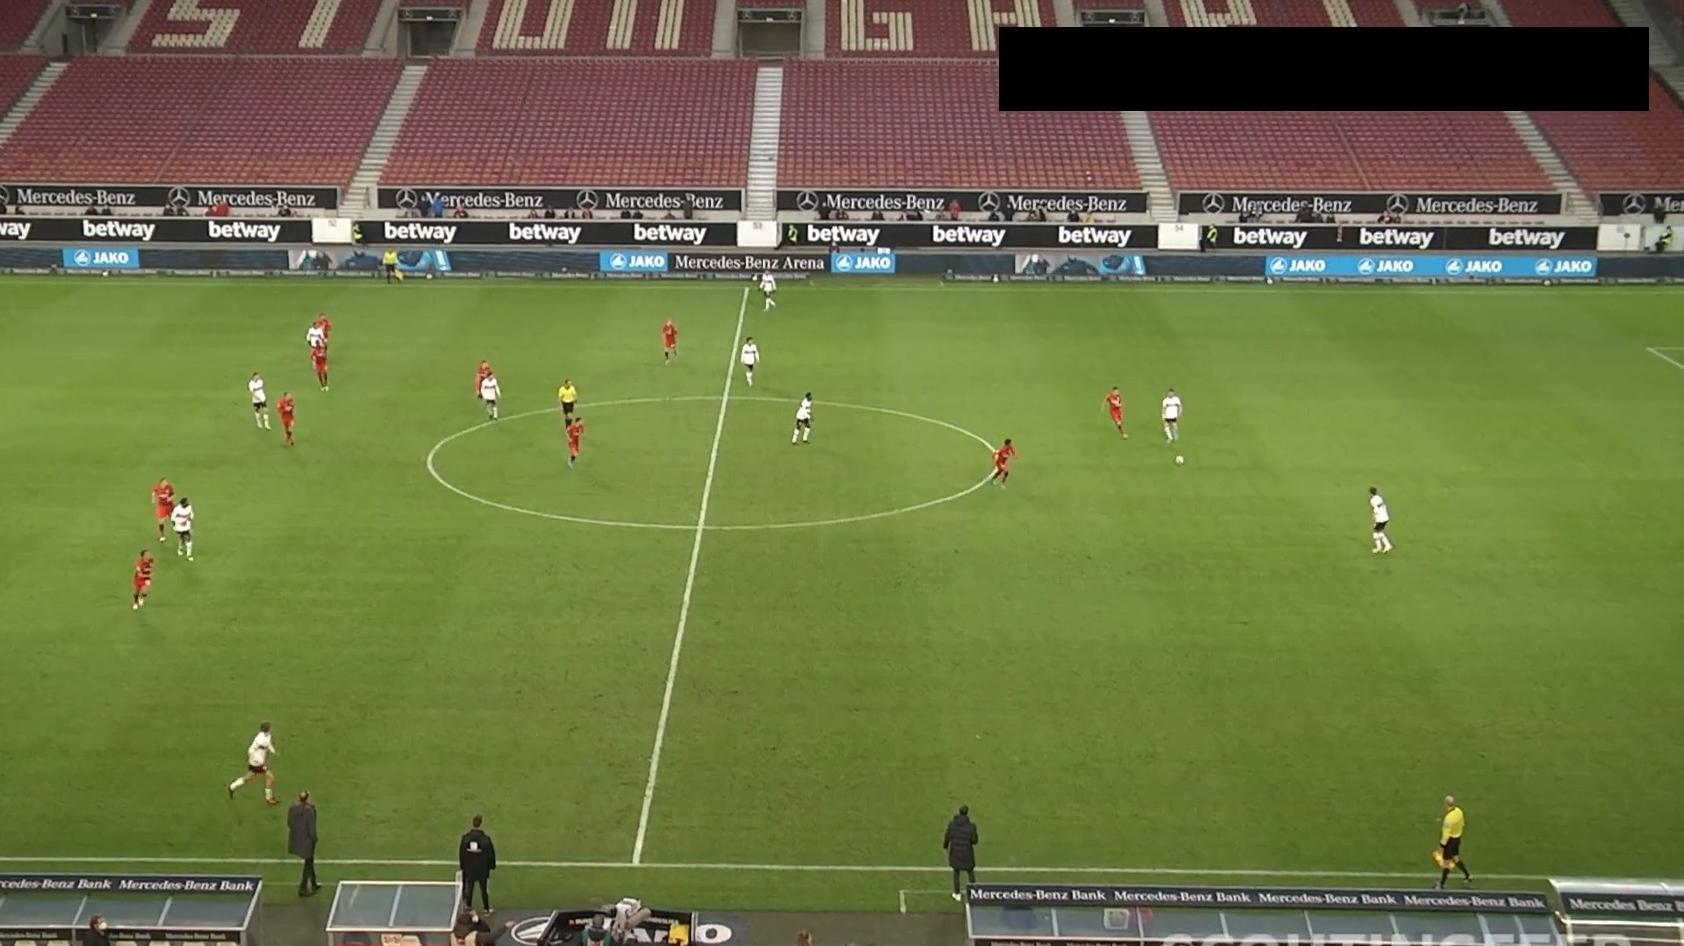ball: (1174, 453, 1186, 466)
